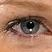eye: (22, 21, 39, 34)
